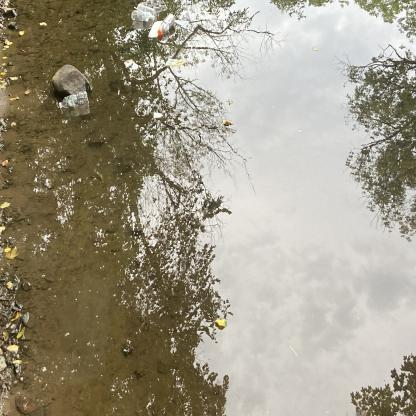trash: (58, 89, 90, 113), (157, 10, 176, 40), (146, 19, 166, 40), (133, 3, 157, 19), (130, 10, 156, 24), (164, 55, 188, 69), (142, 0, 166, 12), (172, 16, 190, 30)
